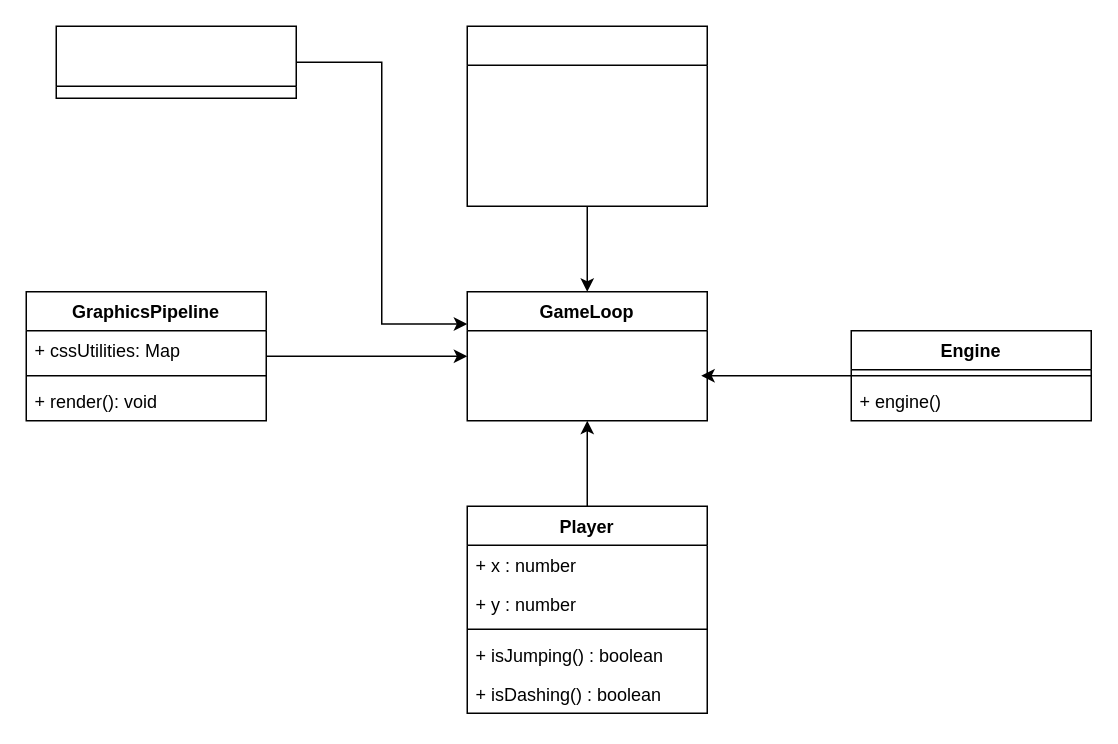
Image size: 1118x744. Some labels were removed from this diagram. Here are the shapes that lost their labels. From the top down, the centre of each, then its label:
the point at 175,61: <<interface>> Listener
the point at 586,115: Level
